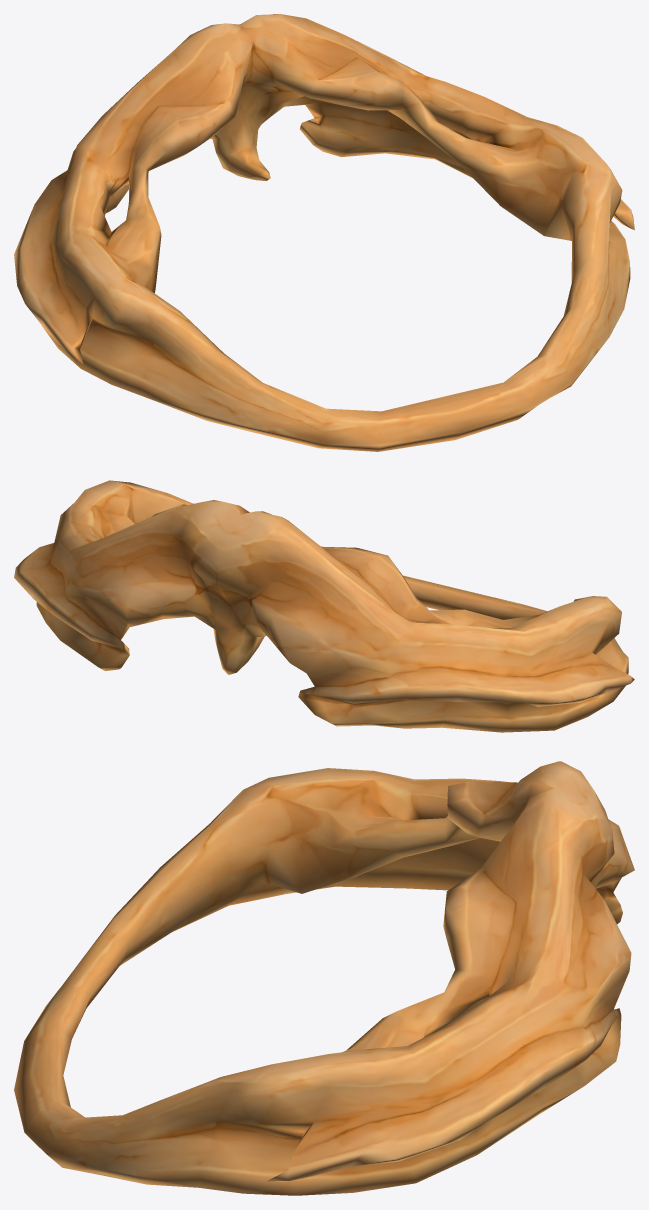
File: Femur.glb
3 views of the same model, one above another, from view 1: azimuth 30°, elevation 25°; view 2: azimuth 150°, elevation 25°; view 3: azimuth 270°, elevation 25° (orthographic). The views are drawn at different scales.
Visible parts, largest first — view 1: geometry_0; view 2: geometry_0; view 3: geometry_0.
Part boxes in pixels (x1,y1,x2,y2): geometry_0: [14, 14, 634, 451]; geometry_0: [14, 480, 634, 732]; geometry_0: [14, 761, 634, 1195].
Size of the model in its own units: 1 by 0.4479 by 0.7738.
1 material, 1 textured.
